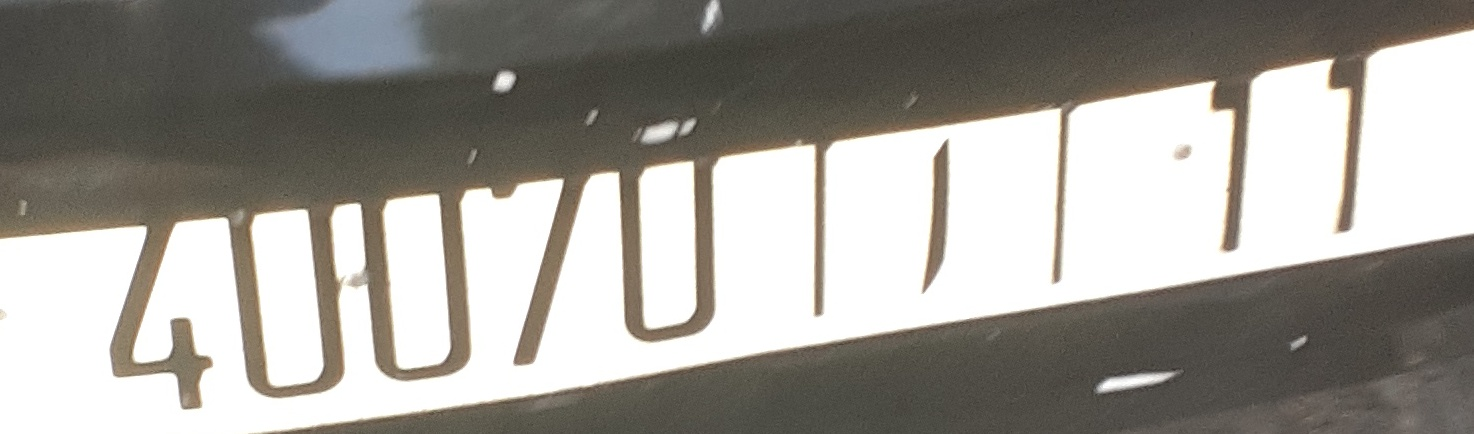0: (222, 204, 355, 404), (356, 190, 480, 390), (617, 141, 725, 343)
1: (1210, 68, 1262, 242), (1323, 46, 1368, 230)
4: (106, 220, 219, 411)
7: (488, 167, 591, 364)
a: (918, 114, 959, 317)
